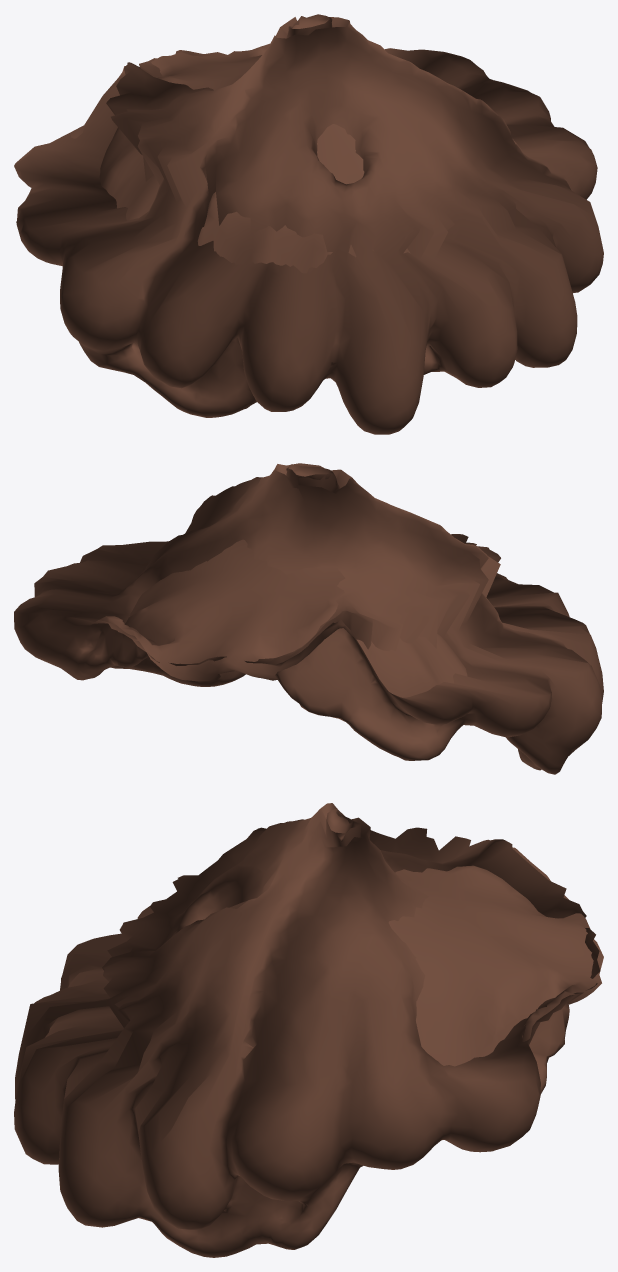
Rendered from hair_bernard.glb.
The picture shows the model from 3 angles, top to bottom: view 1: azimuth 30°, elevation 25°; view 2: azimuth 150°, elevation 25°; view 3: azimuth 270°, elevation 25°; orthographic projection. The views are drawn at different scales.
Parts seen in each view (by area): view 1: Hair; view 2: Hair; view 3: Hair.
Part boxes in pixels (left/top/right/bottom): Hair: left=14, top=14, right=603, bottom=434; Hair: left=14, top=463, right=603, bottom=774; Hair: left=14, top=803, right=603, bottom=1257.
Bounding box in the file's own units: 0.4415 × 0.2463 × 0.3799.
